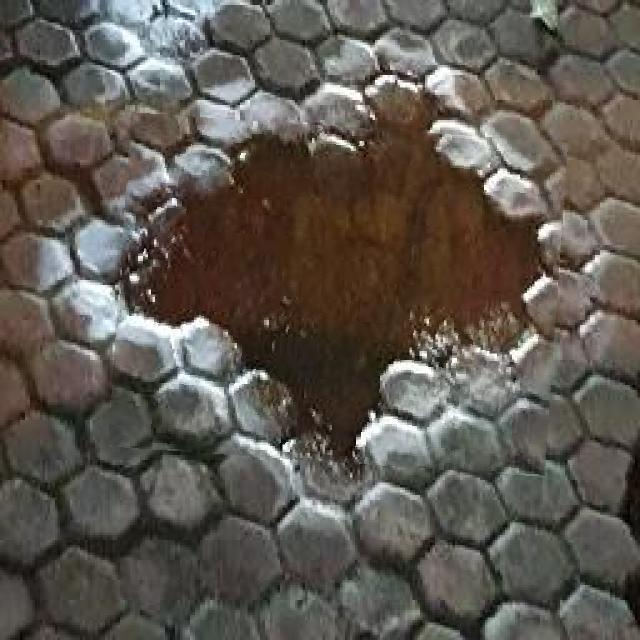puddle: (114, 121, 563, 470)
